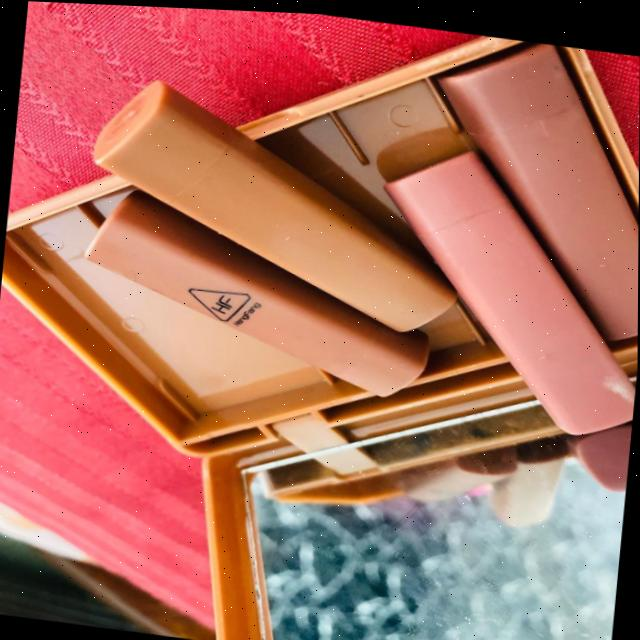lip stick: (76, 73, 475, 345), (341, 120, 639, 446), (59, 180, 444, 419), (405, 23, 640, 342)
